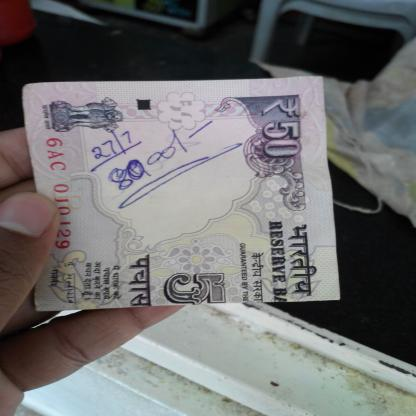Old50Front: (22, 76, 344, 313)
